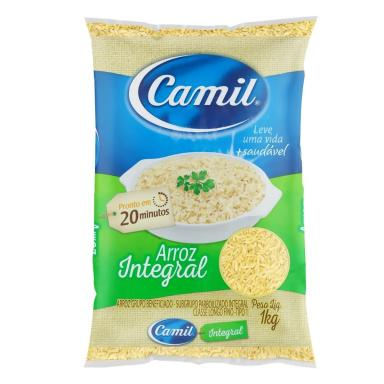rice package: (87, 18, 315, 366)
